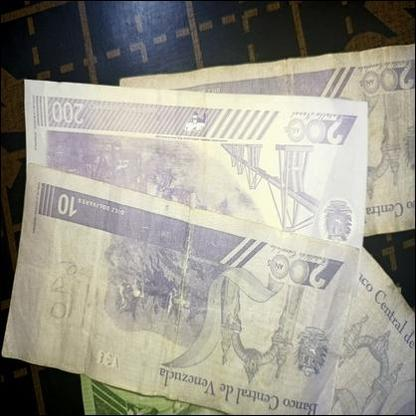vef_back: (5, 164, 360, 416), (20, 80, 368, 278), (118, 41, 416, 237), (294, 246, 416, 416)
vef_front: (79, 356, 311, 416)
